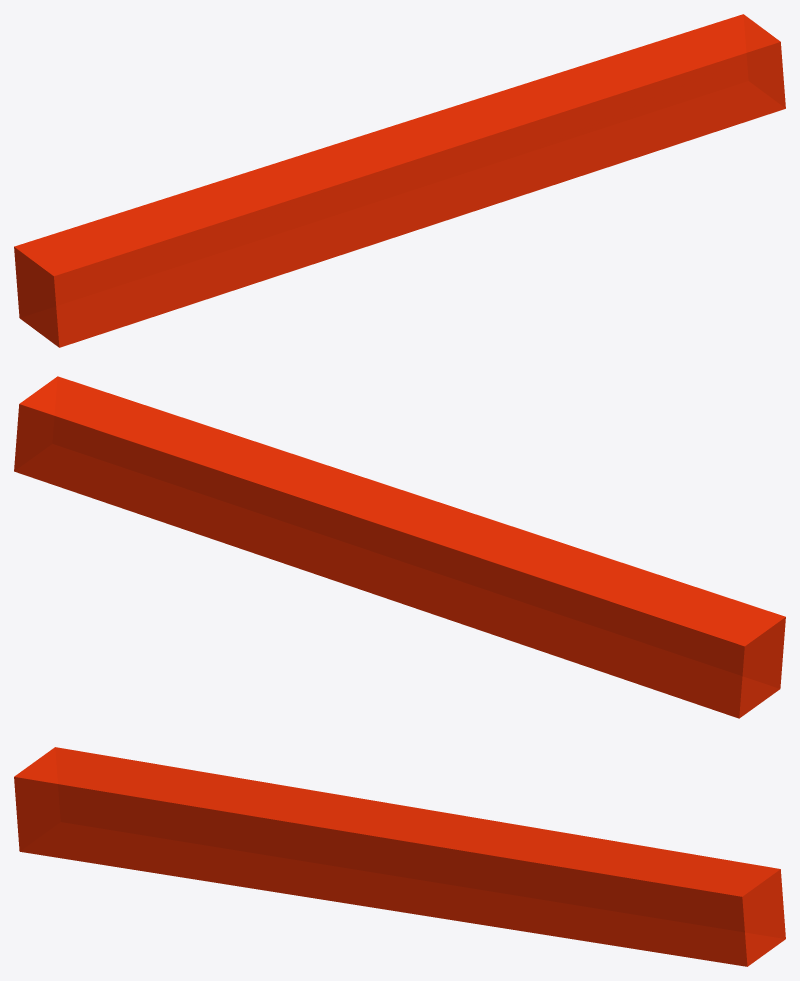
File: Event_421278790_EErechit_29.fbx
The picture shows the model from 3 angles, top to bottom: view 1: azimuth 30°, elevation 25°; view 2: azimuth 150°, elevation 25°; view 3: azimuth 330°, elevation 25°; orthographic projection.
Parts seen in each view (by area): view 1: Model; view 2: Model; view 3: Model.
Part boxes in pixels (x1,y1,x2,y2): Model: (14, 14, 785, 347); Model: (14, 376, 785, 718); Model: (14, 747, 785, 966).
Size of the model in its own units: 0.8106 by 0.1408 by 0.0827.
